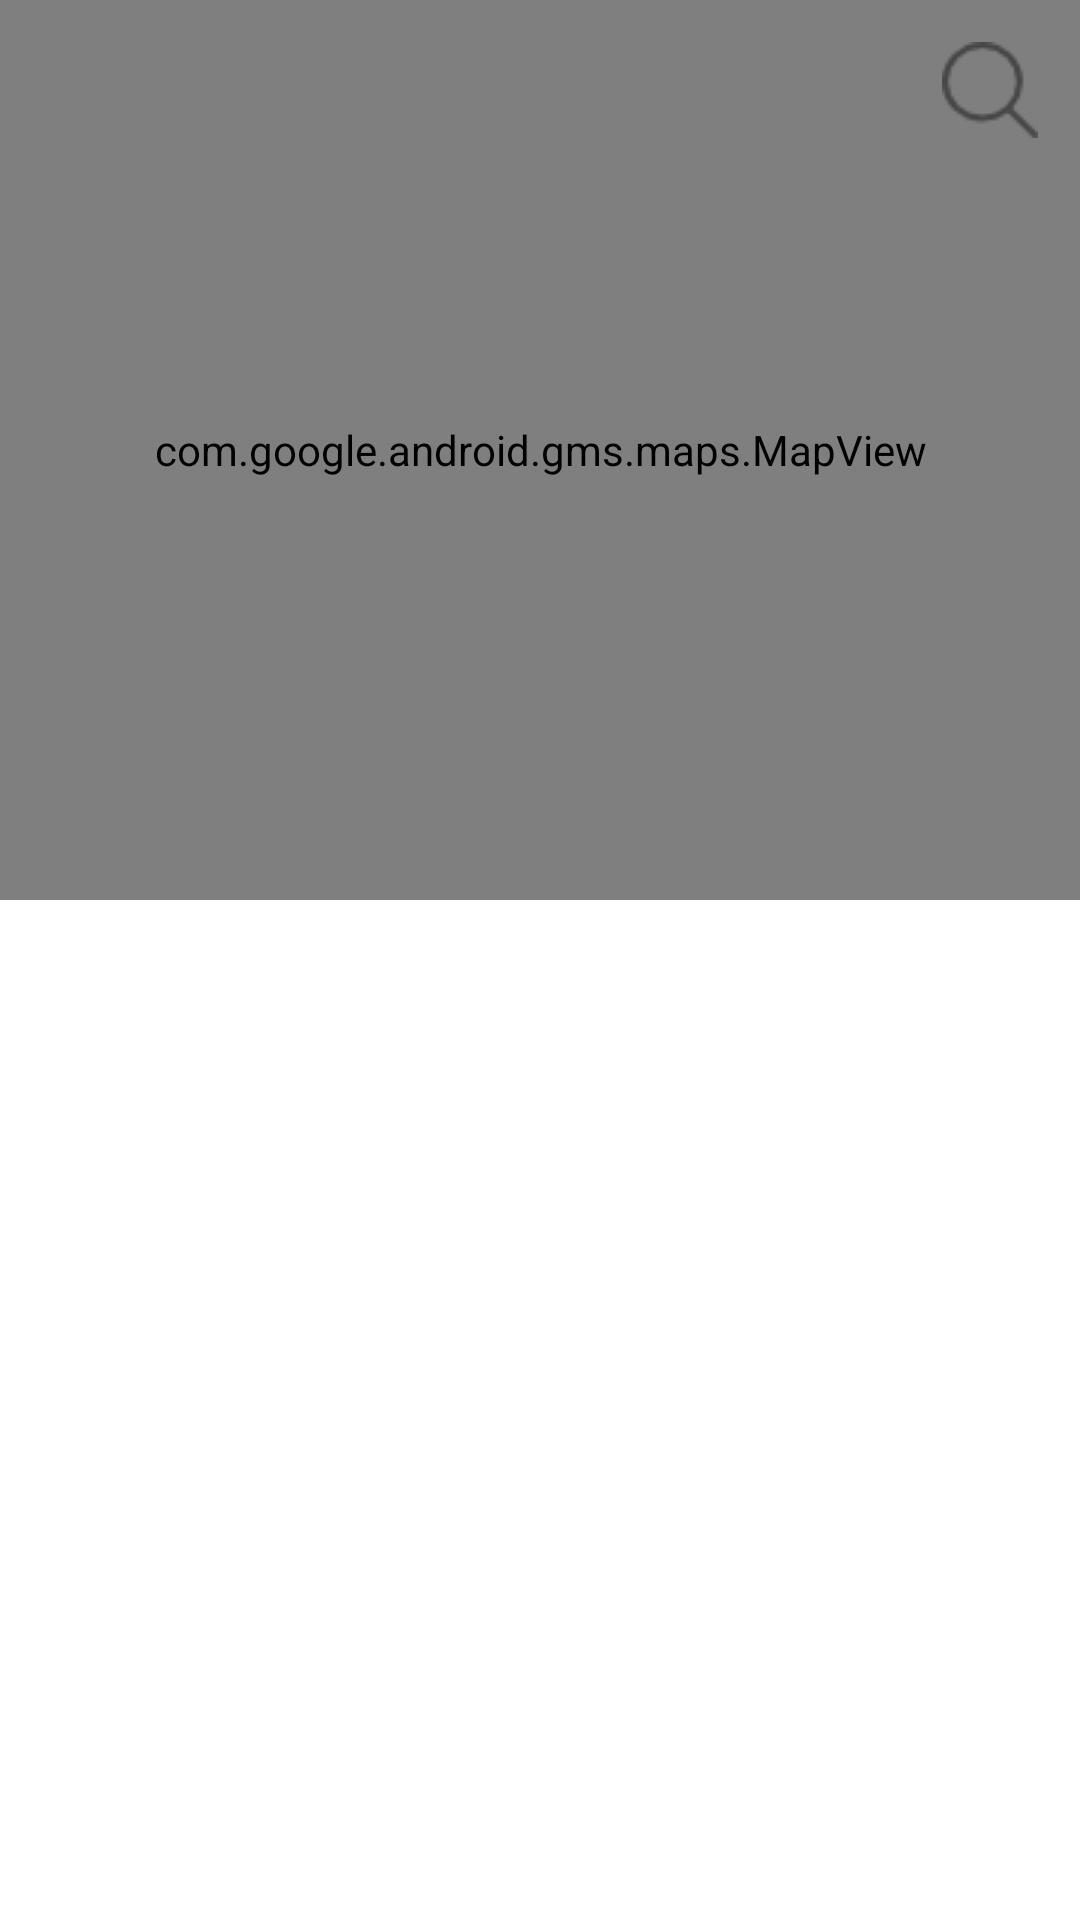

Screen size 1080px×1920px. Icon name, then its box in pixels as {"x1": x1, "y1": y1, "x2": x2, "y2": y2}:
searching: {"x1": 942, "y1": 42, "x2": 1038, "y2": 138}
